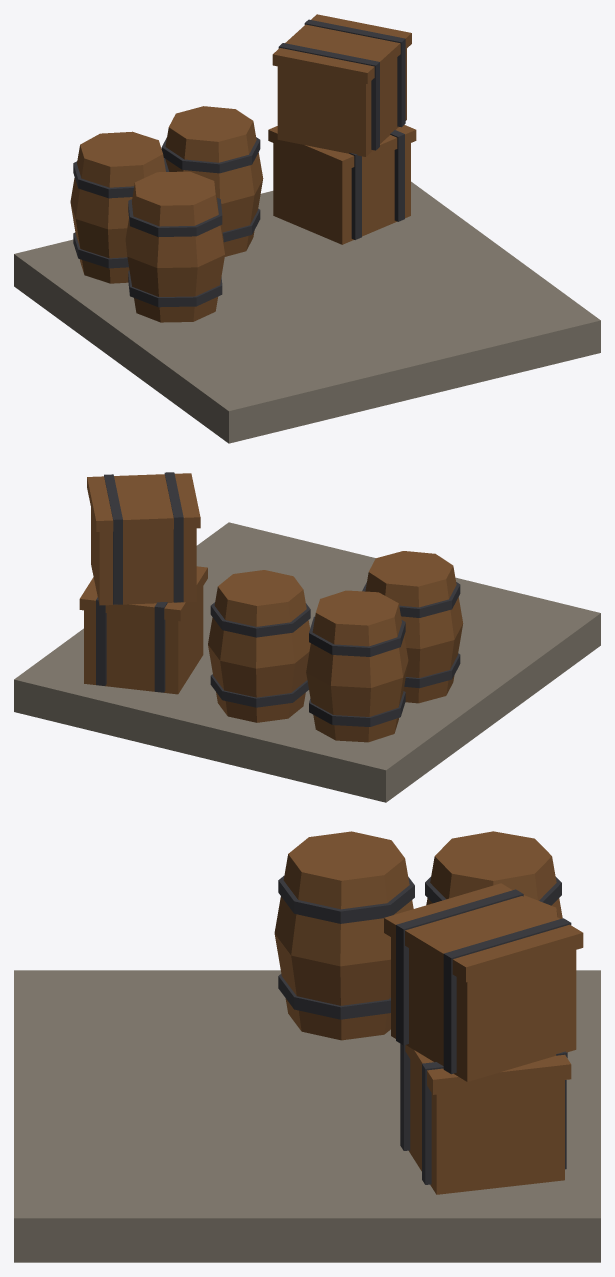
File: Teren_Bruk_Skladowisko.fbx
3 views of the same model, one above another, from view 1: azimuth 30°, elevation 25°; view 2: azimuth 150°, elevation 25°; view 3: azimuth 270°, elevation 25° (orthographic). The views are drawn at different scales.
Parts seen in each view (by area): view 1: Teren_Bruk_Skladowisko; view 2: Teren_Bruk_Skladowisko; view 3: Teren_Bruk_Skladowisko.
Part boxes in pixels (box(x1,y1,x2,y2)): Teren_Bruk_Skladowisko: box(14, 14, 600, 443); Teren_Bruk_Skladowisko: box(14, 472, 600, 802); Teren_Bruk_Skladowisko: box(14, 831, 600, 1262).
Size of the model in its own units: 3 by 1.58 by 3.
